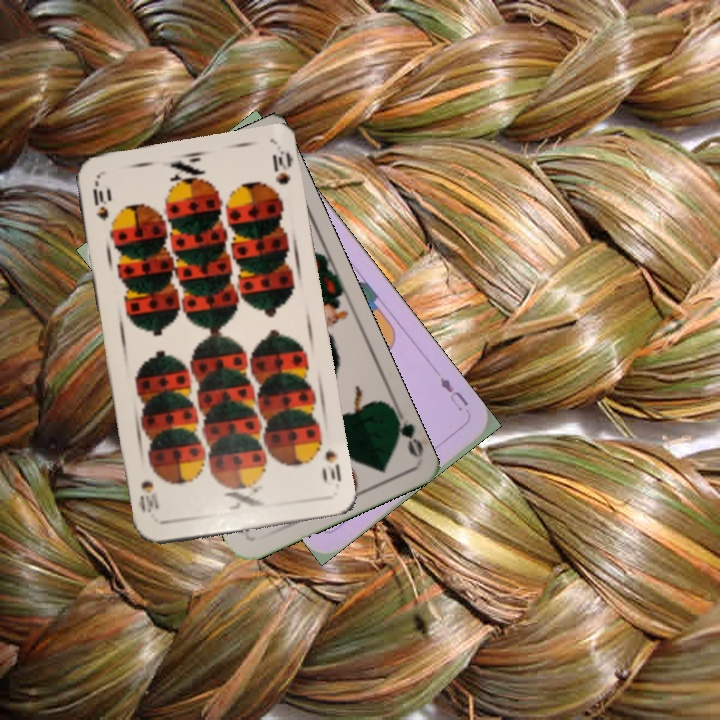EU: (435, 372, 471, 414)
GO: (389, 403, 426, 460)
S10: (318, 445, 344, 487), (89, 177, 111, 223)
